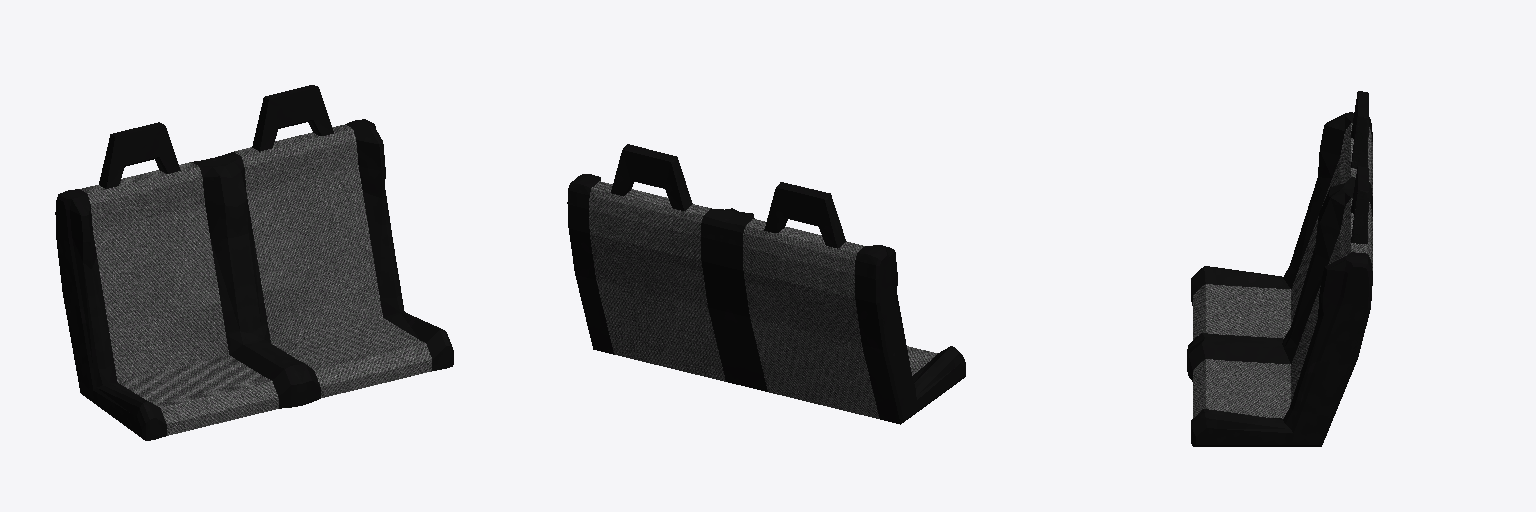
3 views of the same model, side by side, from view 1: azimuth 30°, elevation 25°; view 2: azimuth 150°, elevation 25°; view 3: azimuth 270°, elevation 25° (orthographic).
Visible parts, largest first — view 1: Backseats1; view 2: Backseats1; view 3: Backseats1.
Boxes of the visible parts, <box> form: Backseats1: <box>55,85,453,440</box>; Backseats1: <box>567,144,965,424</box>; Backseats1: <box>1187,91,1372,446</box>.
Size of the model in its own units: 4.91 by 3.48 by 2.53.
1 materials, 1 textured.